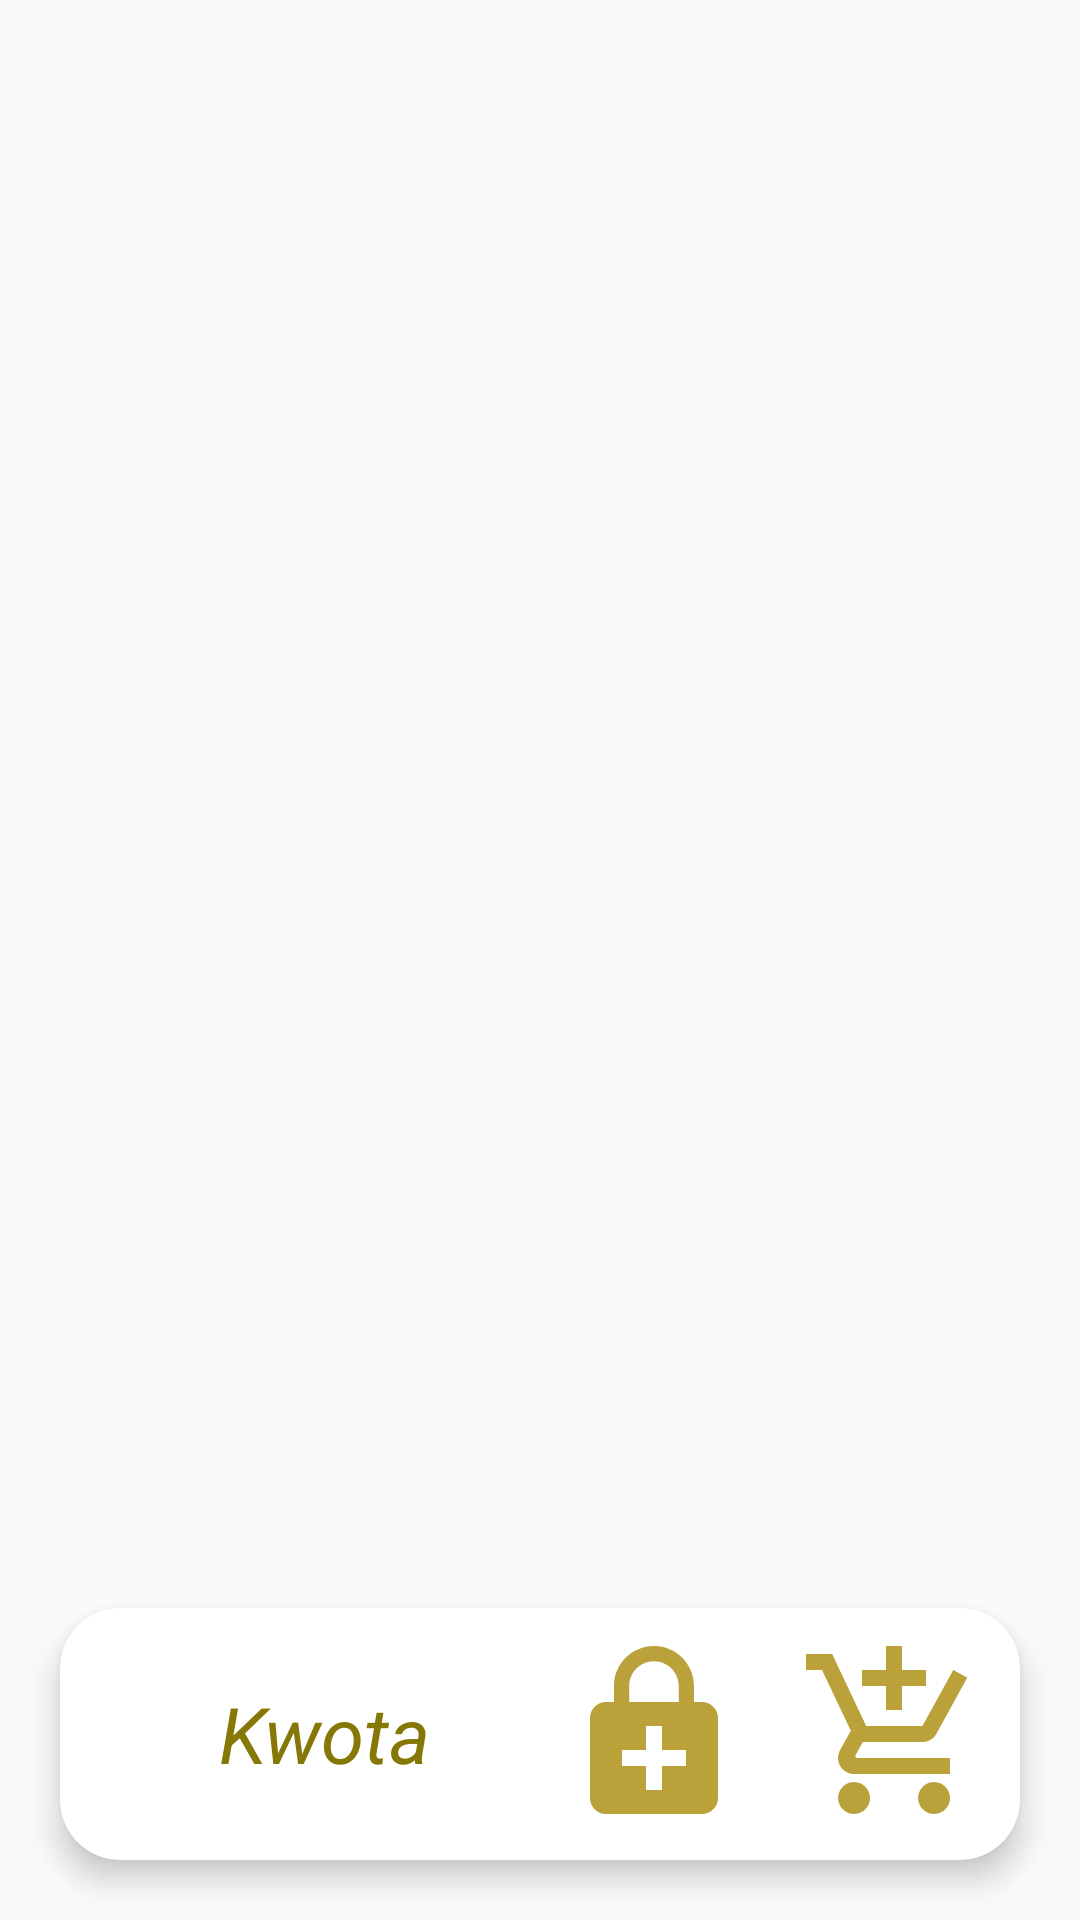

Point at icon controls on the screen. Image size 1080x1920, points as point (x, y).
Szyfrowanie: point (654, 1730)
